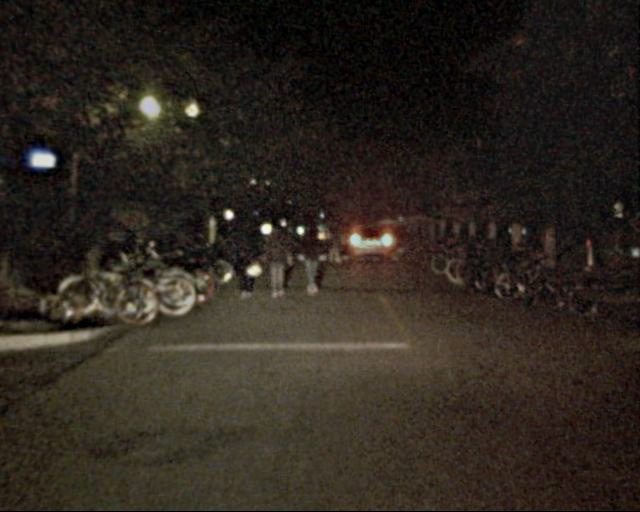person: (229, 215, 259, 301), (295, 221, 326, 297), (262, 221, 290, 300), (327, 225, 345, 269)
